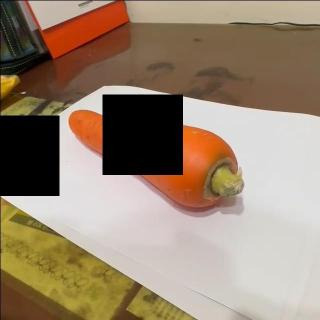carrot: (68, 108, 244, 210)
